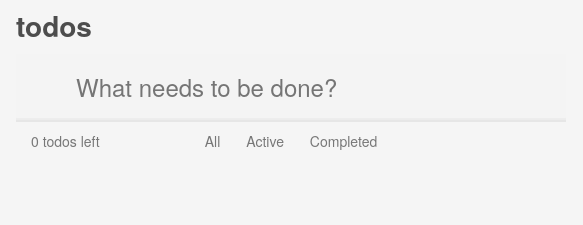
Input form › Form submission › Adds a new todo on submit
Step 1. Type "Buy eggs" into the field with class "new-todo" → {"x": 291, "y": 87}, box [16, 54, 566, 120]
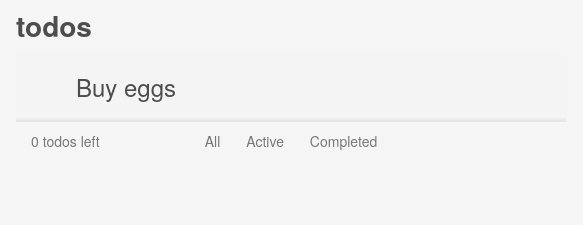
Step 2. Press Enter in the field with class "new-todo", box [16, 54, 566, 120]
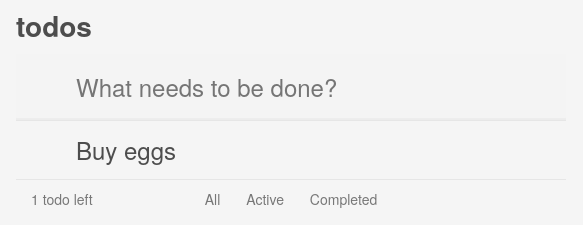
expect the label "Buy eggs" is shown: met, box [76, 132, 176, 167]
